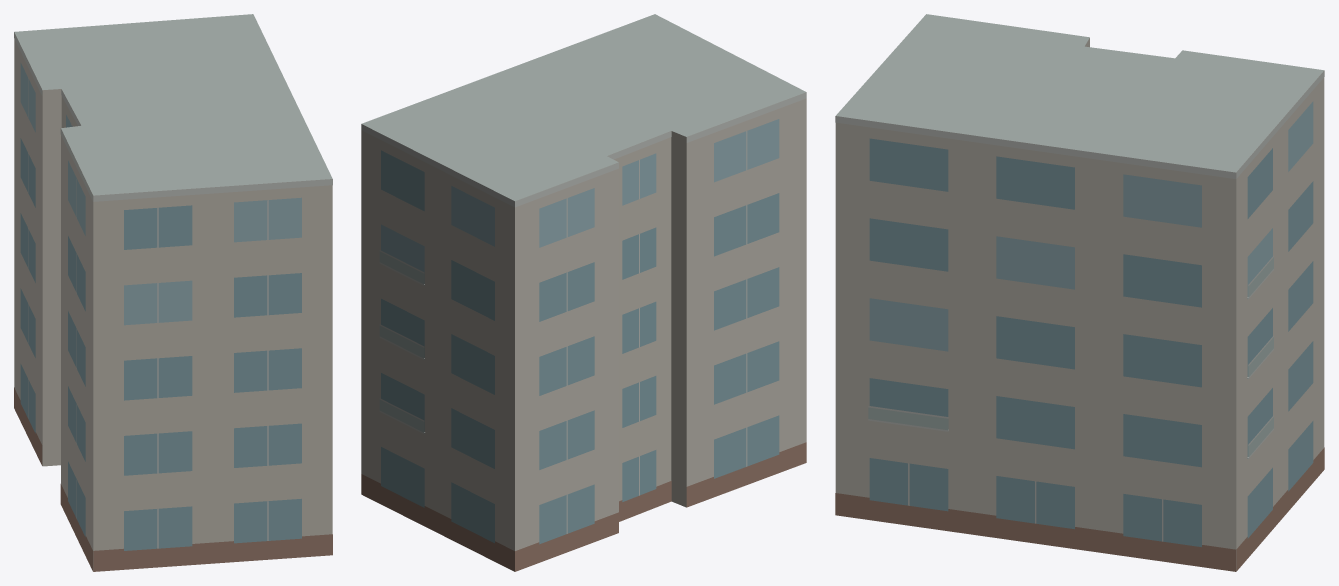
File: survey-upis-32892585.glb
The picture shows the model from 3 angles, left to right: view 1: azimuth 30°, elevation 25°; view 2: azimuth 150°, elevation 25°; view 3: azimuth 270°, elevation 25°; orthographic projection. The views are drawn at different scales.
Visible parts, largest first — view 1: survey-upis-32892585.tmp; view 2: survey-upis-32892585.tmp; view 3: survey-upis-32892585.tmp.
Part boxes in pixels (x1,y1,x2,y2): survey-upis-32892585.tmp: (14,14,332,571); survey-upis-32892585.tmp: (361,14,806,571); survey-upis-32892585.tmp: (835,14,1324,571).
Size of the model in its own units: 12.44 by 14.6 by 16.21.
